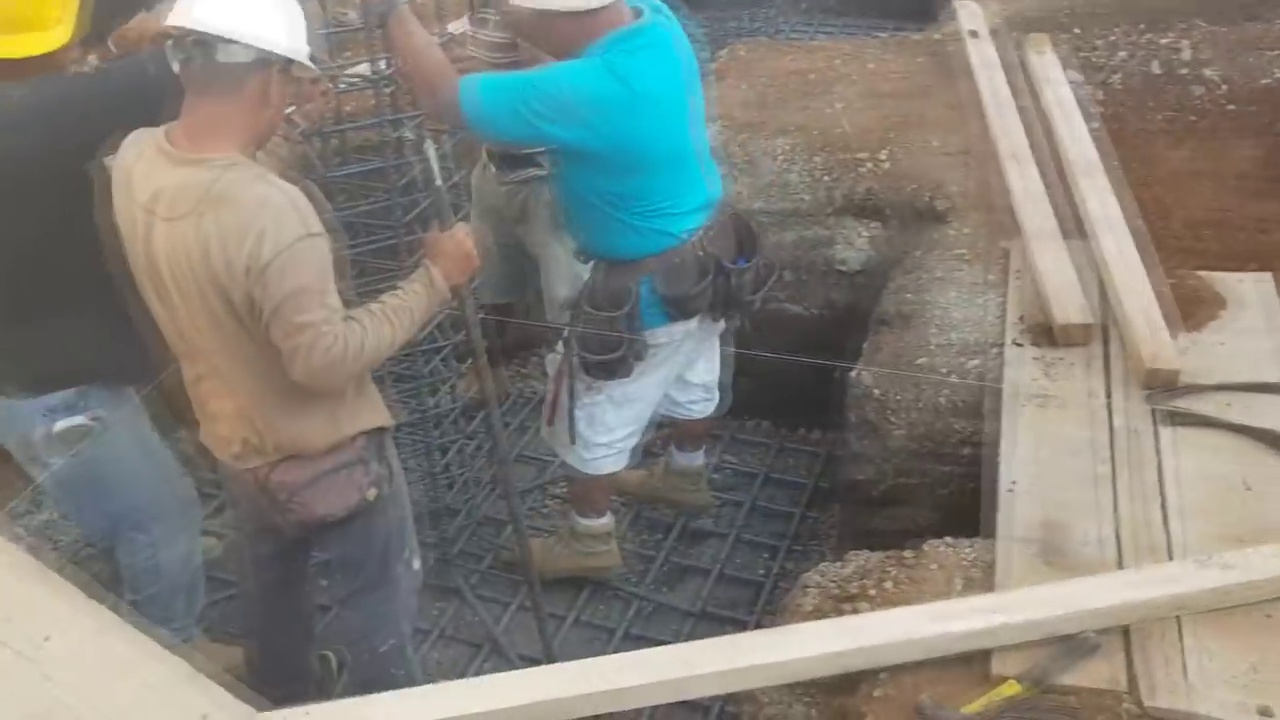helmet: (157, 0, 321, 80), (2, 0, 81, 63)
helmet-off: (492, 3, 645, 62)
helmet-on: (154, 0, 322, 165), (3, 0, 91, 88)
person: (109, 0, 480, 711), (378, 0, 726, 580), (0, 0, 208, 650)
